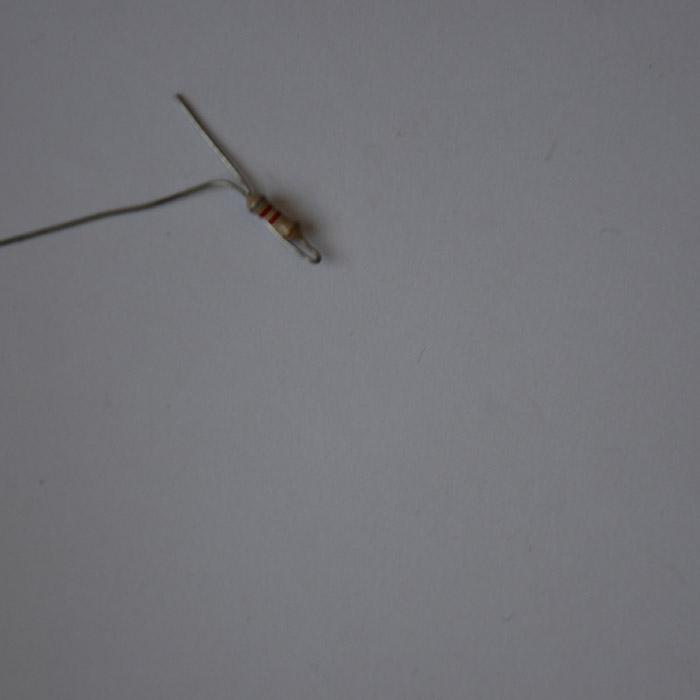resistor: (244, 192, 308, 252)
